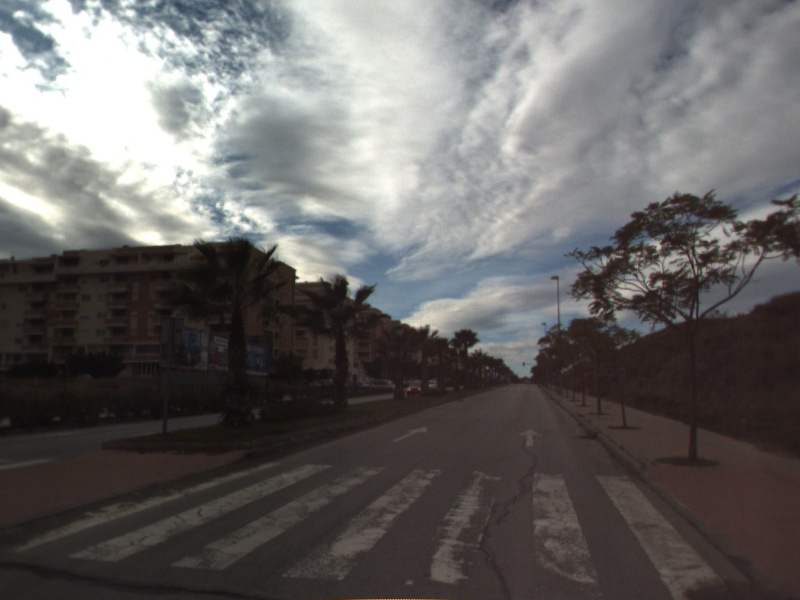STRAIGHT: (391, 425, 428, 443), (517, 427, 546, 448)
